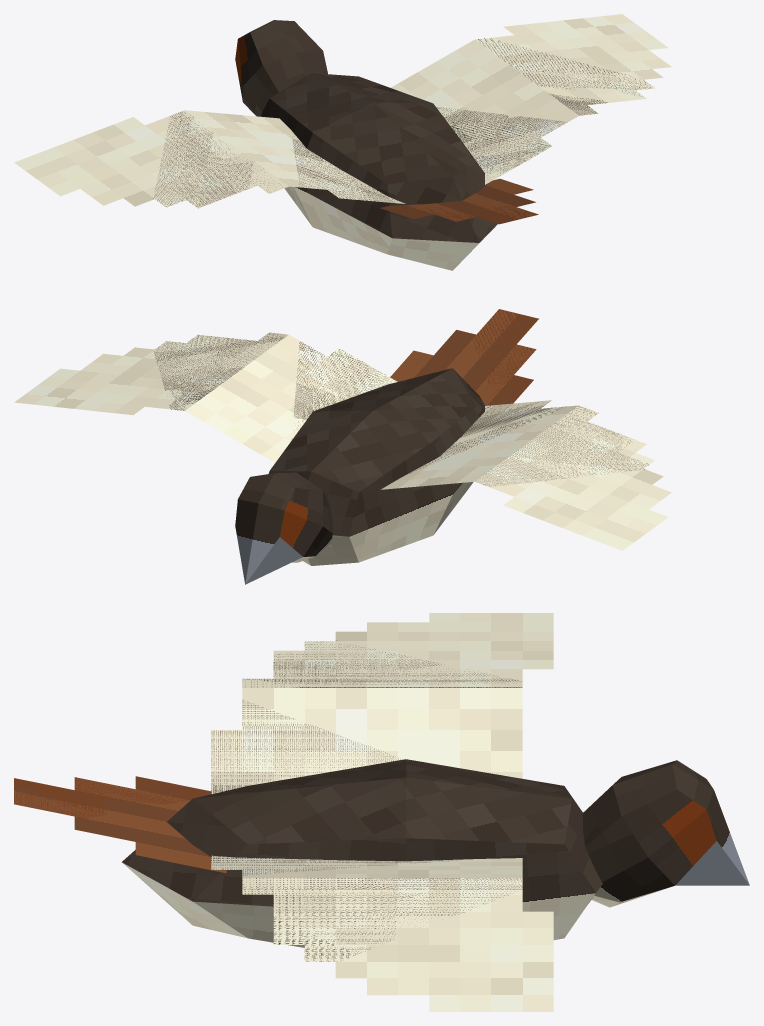
The picture shows the model from 3 angles, top to bottom: view 1: azimuth 30°, elevation 25°; view 2: azimuth 150°, elevation 25°; view 3: azimuth 270°, elevation 25°; orthographic projection. The views are drawn at different scales.
Visible parts, largest first — view 1: body, rw, lw, head, tail; view 2: rw, body, lw, head, tail; view 3: body, lw, rw, head, tail.
Part boxes in pixels (x1,y1,x2,y2): body: [260, 73, 497, 270]; rw: [391, 14, 671, 184]; lw: [14, 110, 405, 208]; head: [235, 20, 327, 116]; tail: [380, 178, 538, 224]; rw: [14, 332, 397, 462]; body: [268, 368, 484, 565]; lw: [380, 400, 671, 550]; head: [235, 472, 333, 584]; tail: [390, 309, 538, 405]; body: [122, 759, 602, 947]; lw: [211, 613, 553, 794]; rw: [211, 855, 553, 1011]; head: [583, 760, 749, 907]; tail: [14, 776, 226, 873].
Size of the model in its own units: 1.89 by 0.4043 by 1.48.
Materials: 1 (1 with a texture image).
